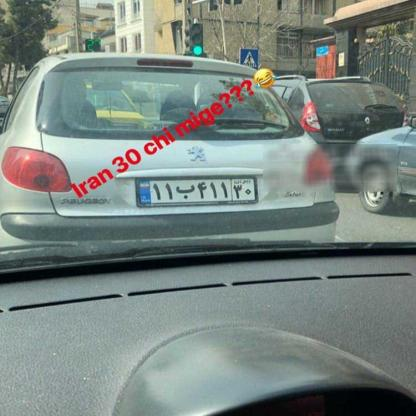licence: (133, 179, 256, 203)
